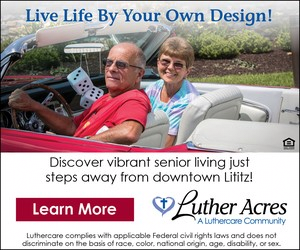fake_button: (11, 195, 138, 228)
